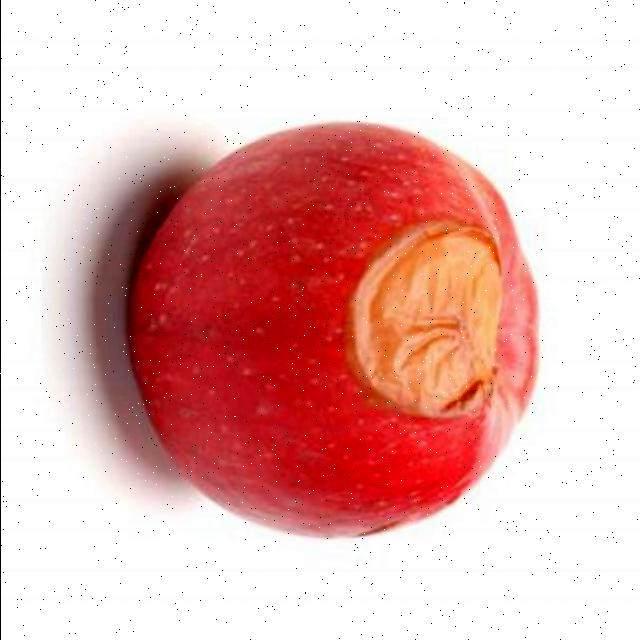ROT: (83, 105, 556, 556)
